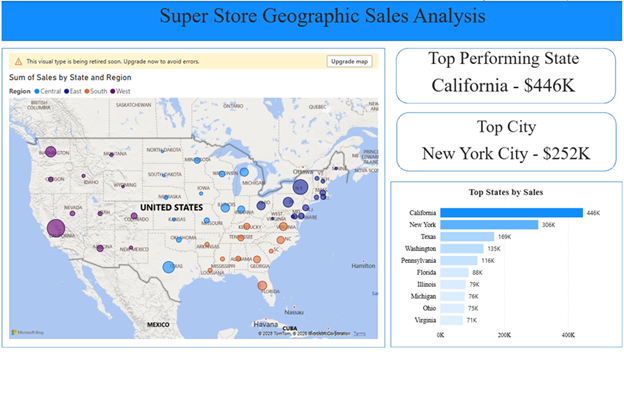

This screenshot's page, from the dashboard's own definition file:
{"tool":"powerbi","page":{"name":"Geographic Info","canvas":[1280,720],"ordinal":3},"visuals":[{"type":"shape","box":[4,0,1270,82],"z":0},{"type":"textbox","box":[217.7,0,885.3,81.9],"z":1000},{"type":"shape","box":[4.1,96.1,784.9,614.8],"z":2000},{"type":"shape","box":[800,370.5,474.8,340.3],"z":3000},{"type":"clusteredBarChart","title":"Top States by Sales","fields":{"Y":["Sum(train.Sales)"],"Category":["train.State"]},"box":[811,381.5,450.1,319.7],"z":4000},{"type":"map","fields":{"Category":["train.State"],"Size":["Sum(train.Sales)"],"Series":["train.Region"]},"box":[13.5,107.6,765.5,591.9],"z":5000},{"type":"shape","box":[811,96.1,450.1,113.9],"z":6000},{"type":"shape","box":[812.4,229.2,450.1,120.8],"z":7000},{"type":"cardVisual","title":"Top Performing State","fields":{"Data":["train.Top State Label"]},"box":[812.9,96.7,436,104.9],"z":8000},{"type":"cardVisual","title":"Top City","fields":{"Data":["train.Top City Label"]},"box":[819.5,237.6,436,104.9],"z":9000}]}

Visuals, with their boxes in screenshot pixels (x1, y1, x2, y2):
shape: Rect(2, 0, 612, 39)
textbox: Rect(105, 0, 530, 39)
shape: Rect(2, 46, 379, 342)
shape: Rect(385, 178, 613, 342)
"Top States by Sales" clusteredBarChart: Rect(390, 183, 606, 337)
map - train.State x Sum(train.Sales): Rect(6, 52, 375, 336)
shape: Rect(390, 46, 606, 101)
shape: Rect(391, 110, 607, 168)
"Top Performing State" cardVisual: Rect(391, 46, 600, 97)
"Top City" cardVisual: Rect(394, 114, 604, 165)
